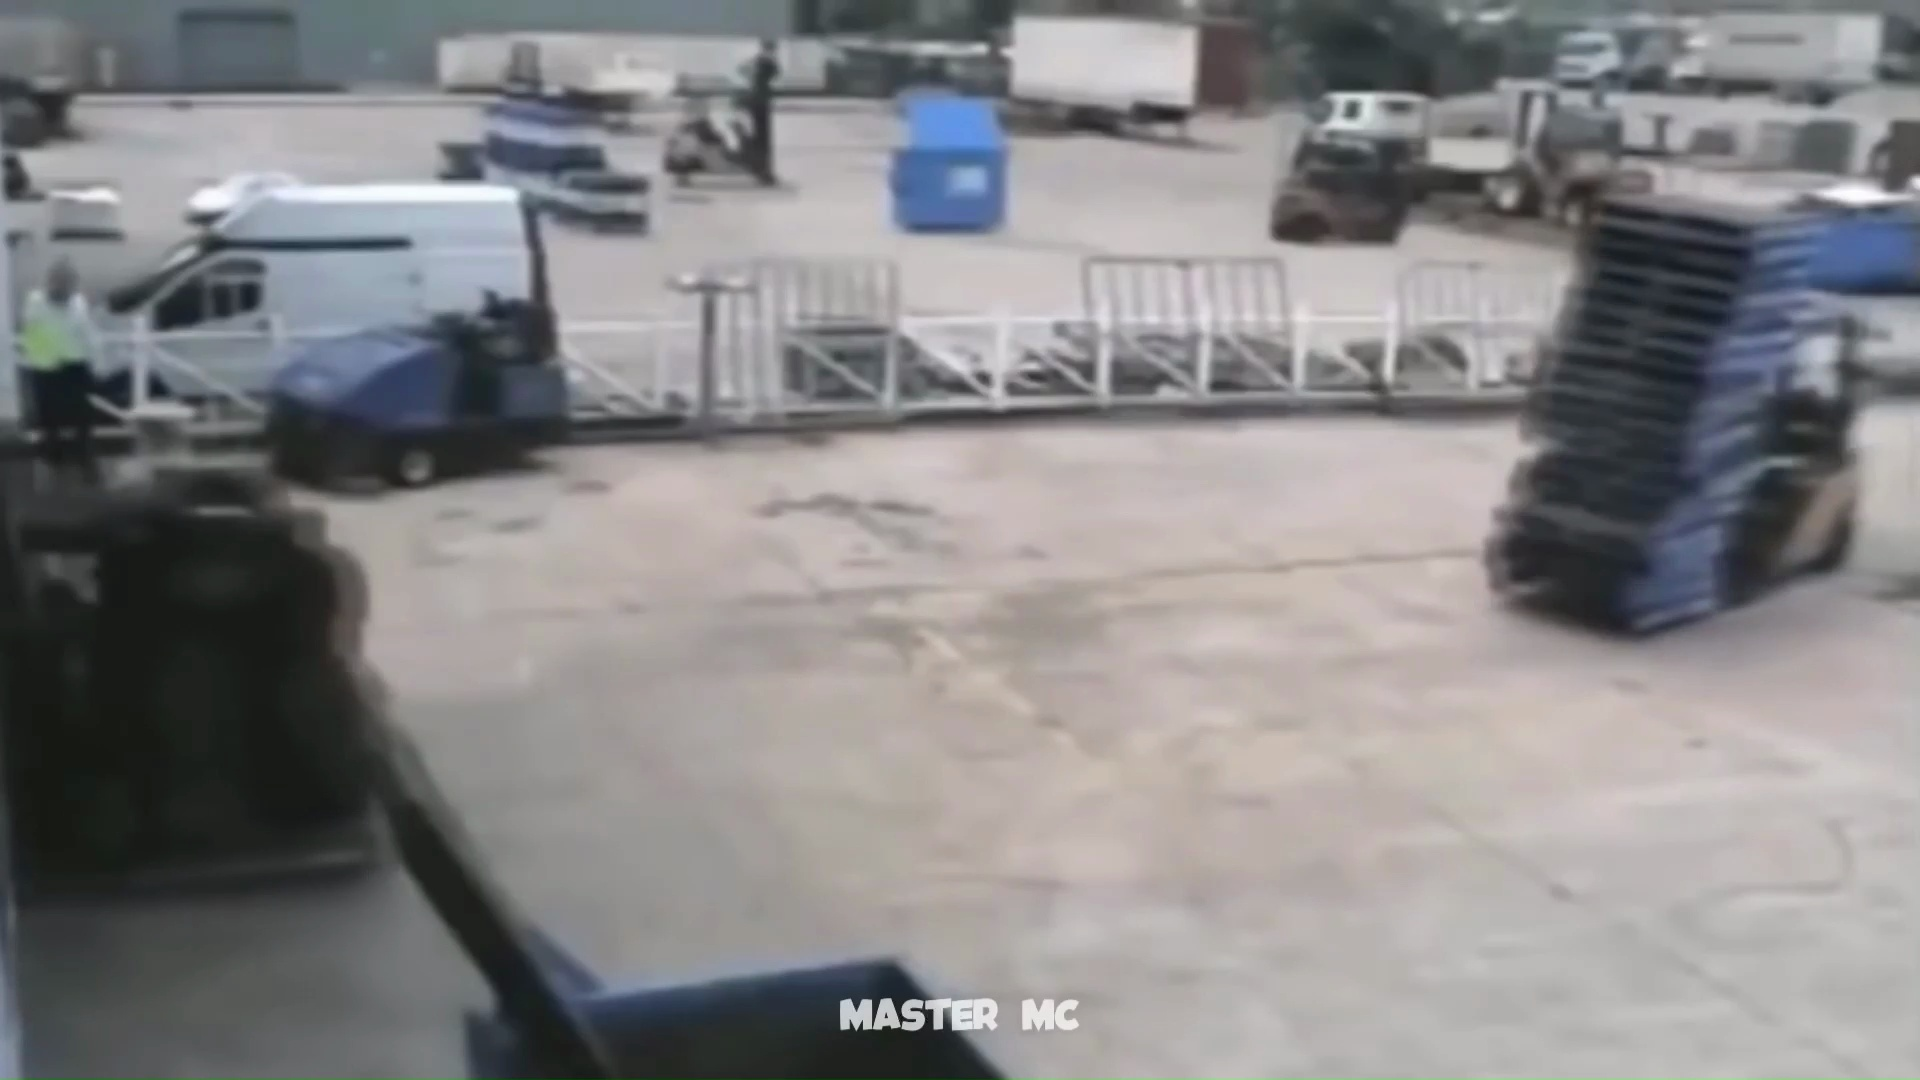forklift: (1501, 203, 1865, 632), (12, 459, 367, 891)
